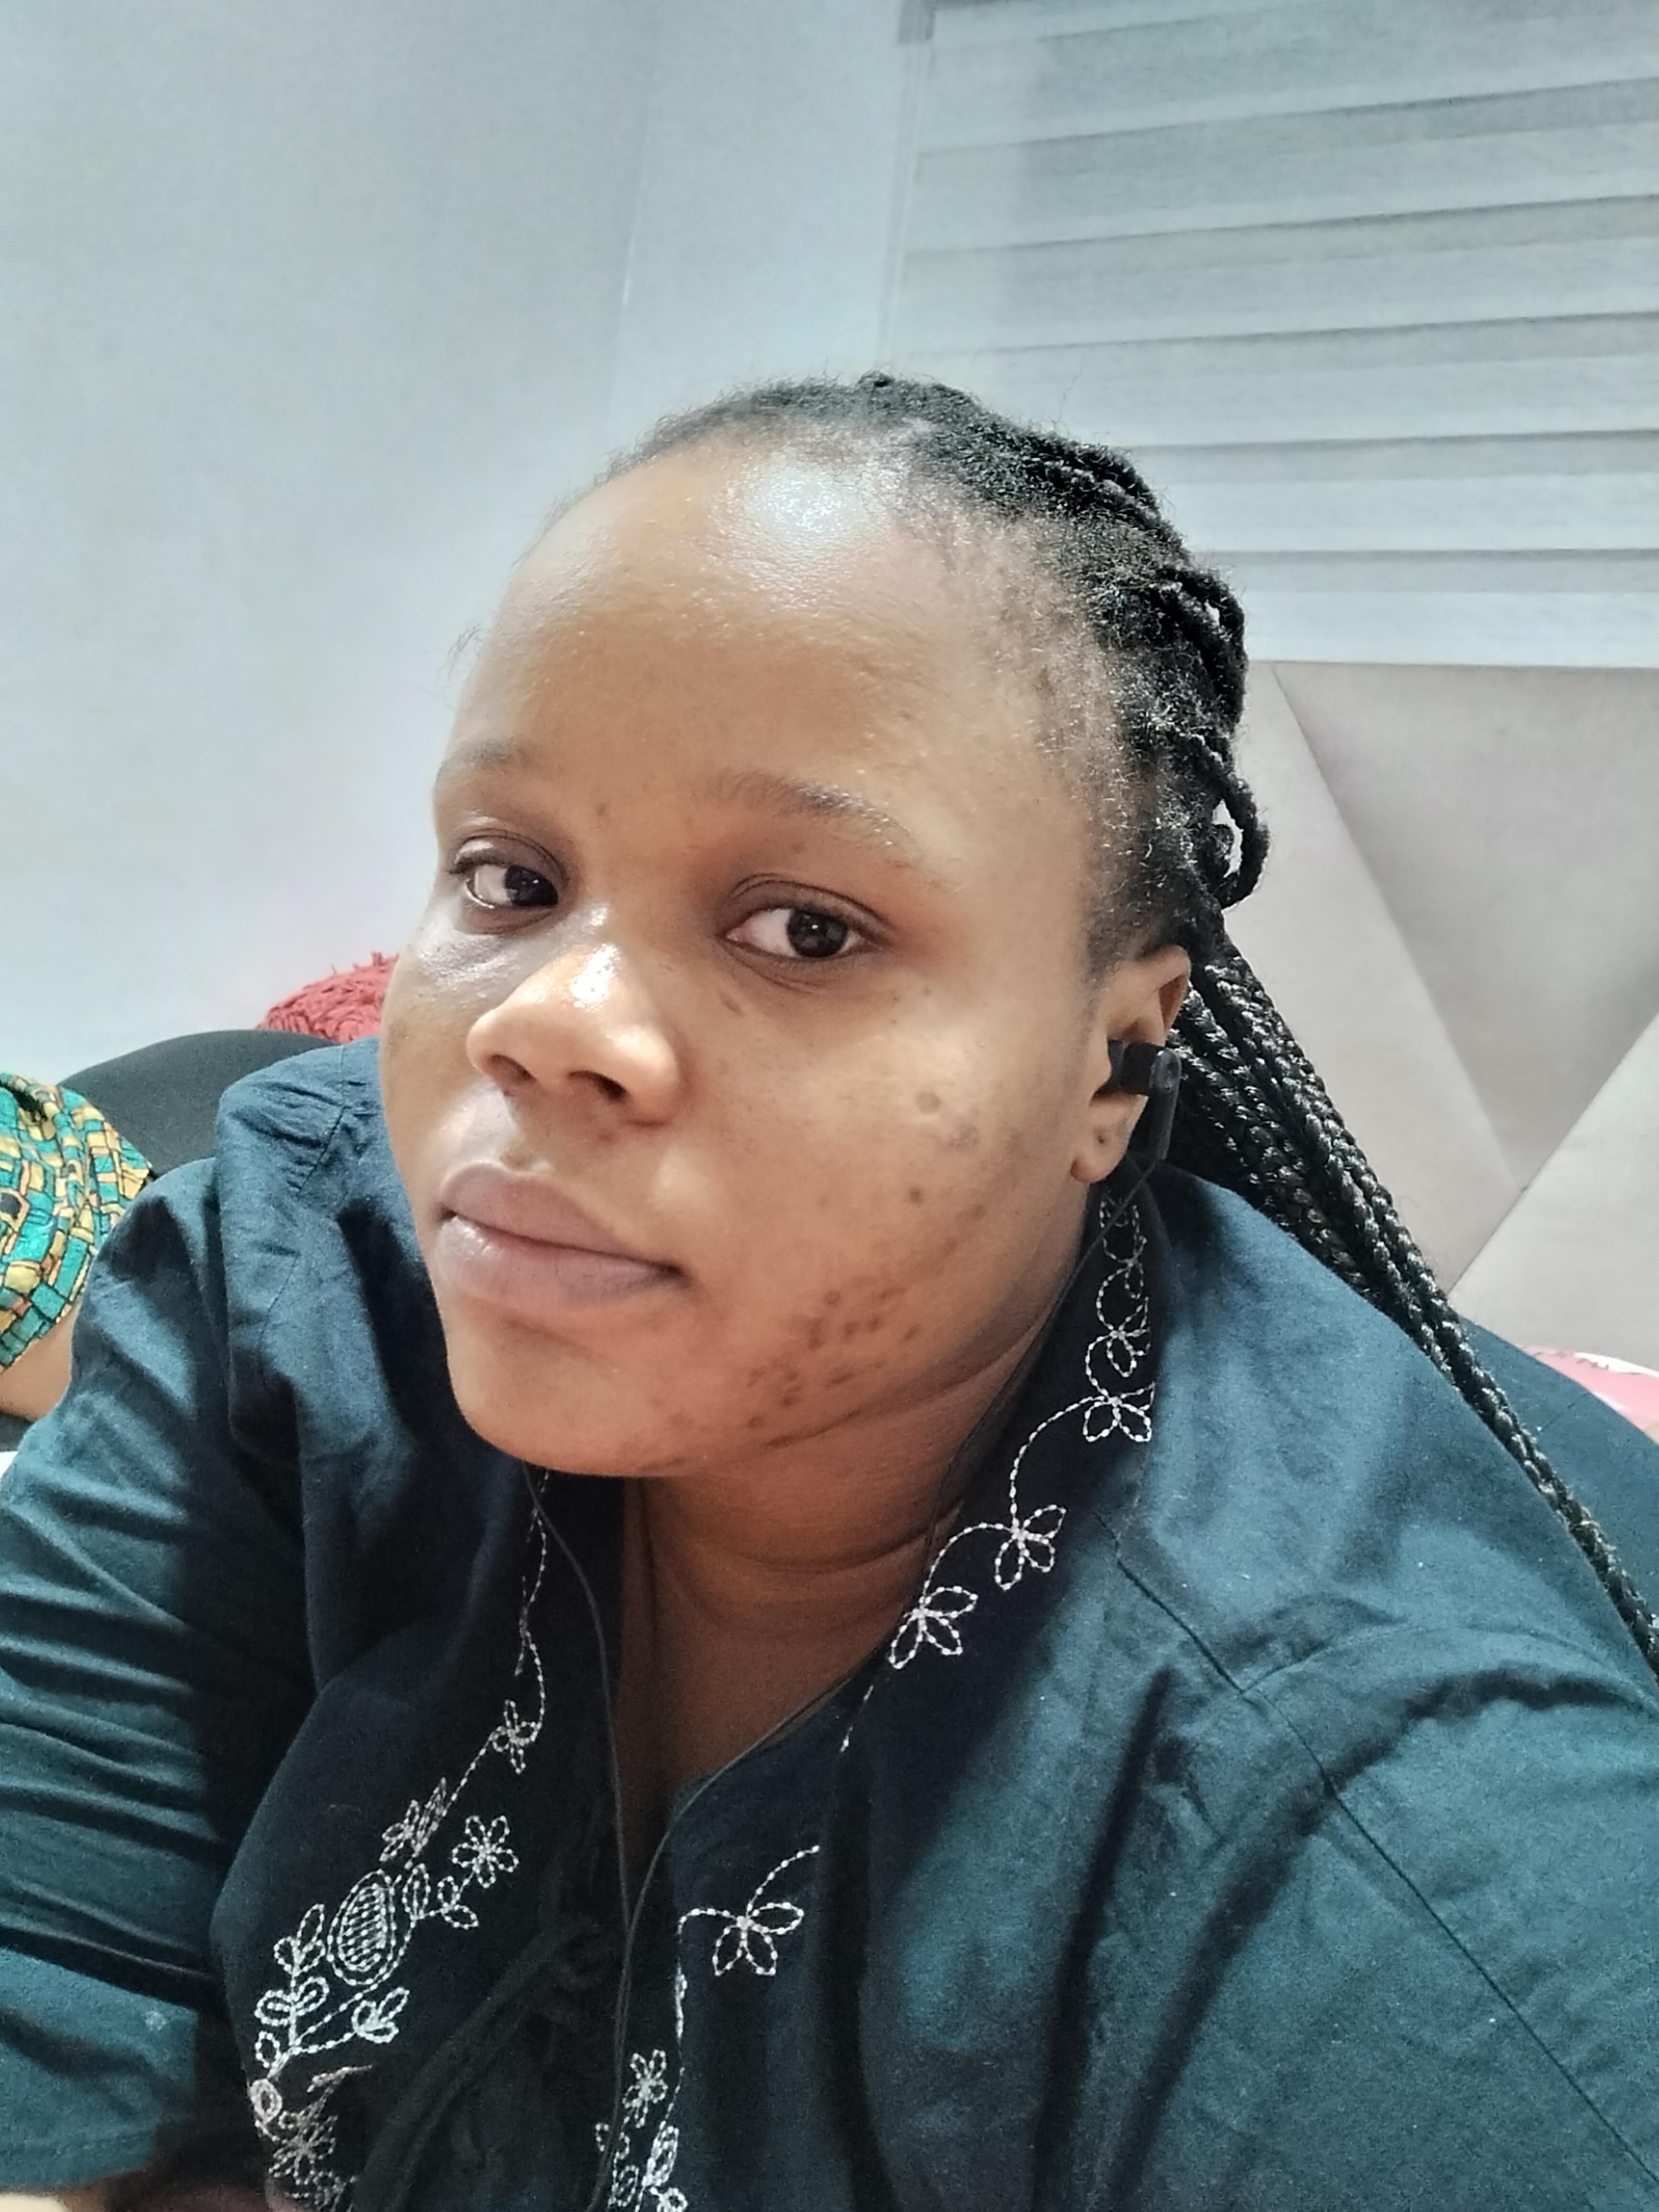Acne: (709, 984, 755, 1028), (910, 1080, 953, 1123), (770, 1359, 807, 1406), (897, 1176, 934, 1212), (823, 1282, 859, 1317), (823, 1362, 857, 1393), (664, 1406, 702, 1433), (791, 1320, 828, 1348), (943, 1129, 981, 1155), (641, 1456, 687, 1477), (584, 794, 615, 822), (939, 1235, 962, 1264), (762, 1433, 803, 1449), (741, 1366, 767, 1388), (873, 1285, 910, 1301), (741, 1411, 767, 1432), (897, 1322, 925, 1341), (967, 1200, 990, 1223), (866, 1353, 894, 1371), (838, 1324, 861, 1345), (603, 1353, 624, 1376), (868, 1312, 887, 1336), (699, 1447, 718, 1470), (810, 1191, 836, 1207)
Englarged-Pores: (711, 1076, 784, 1151), (559, 972, 613, 1019)
